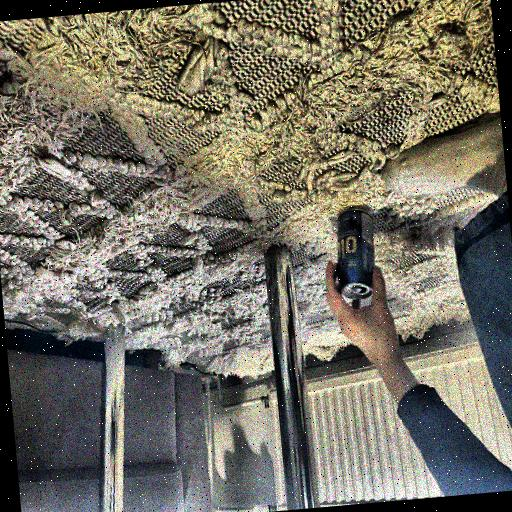koti: (329, 210, 380, 305)
